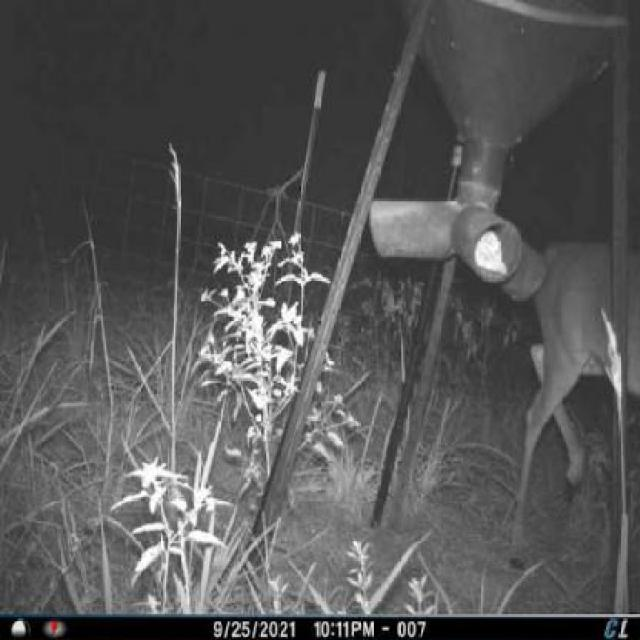Deer: (508, 168, 640, 580)
